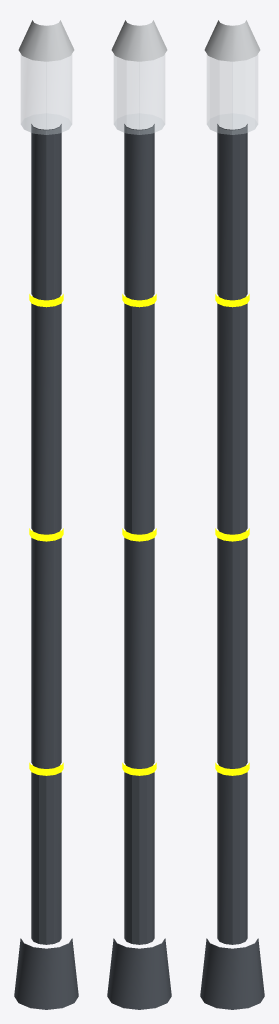
File: ext_street_light_pole_05.glb
3 renders of one model, left to right at view 1: azimuth 90°, elevation 25°; view 2: azimuth 150°, elevation 25°; view 3: azimuth 270°, elevation 25°, orthographic.
Parts seen in each view (by area): view 1: Pole, Base, Lantern_Glass, Cap, Marker_Rings; view 2: Pole, Base, Lantern_Glass, Cap, Marker_Rings; view 3: Pole, Base, Lantern_Glass, Cap, Marker_Rings.
Part boxes in pixels (<box>): Pole: <box>31,124,61,944</box>; Base: <box>14,938,78,1009</box>; Lantern_Glass: <box>21,55,71,134</box>; Cap: <box>18,20,74,61</box>; Marker_Rings: <box>29,294,63,775</box>; Pole: <box>124,124,154,944</box>; Base: <box>107,938,171,1009</box>; Lantern_Glass: <box>114,55,164,134</box>; Cap: <box>111,20,167,61</box>; Marker_Rings: <box>122,294,156,775</box>; Pole: <box>217,124,247,944</box>; Base: <box>200,938,264,1009</box>; Lantern_Glass: <box>207,55,257,134</box>; Cap: <box>204,20,260,61</box>; Marker_Rings: <box>215,294,249,775</box>.
Size of the model in its own units: 0.3 by 5 by 0.3.
